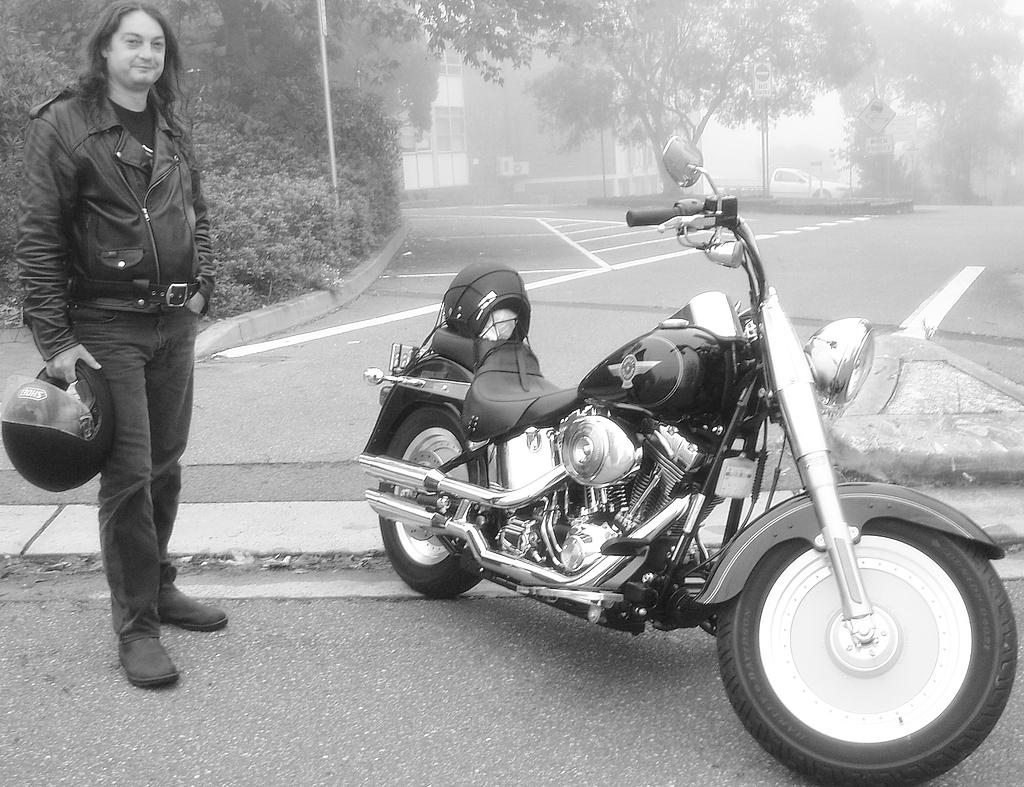helmet: (1, 351, 116, 492), (444, 261, 531, 345)
nohelmet: (92, 0, 174, 98)
